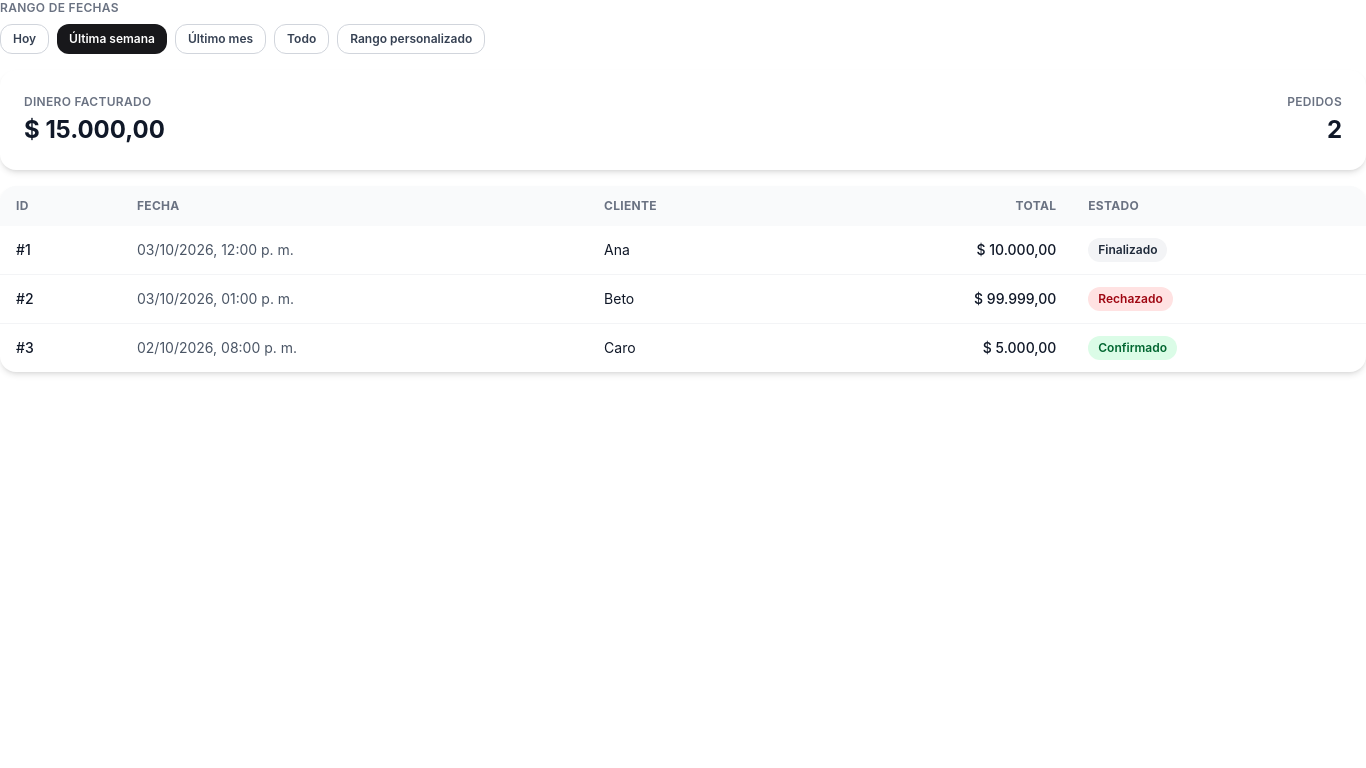
Test: HistorialView › abre el detalle de un pedido desde la tabla
Expected: the text "Ana" is shown, top-left (588, 226), bottom-right (794, 274)
Step 1. Click the button "#1" → (23, 250), box top-left (16, 240), bottom-right (31, 260)
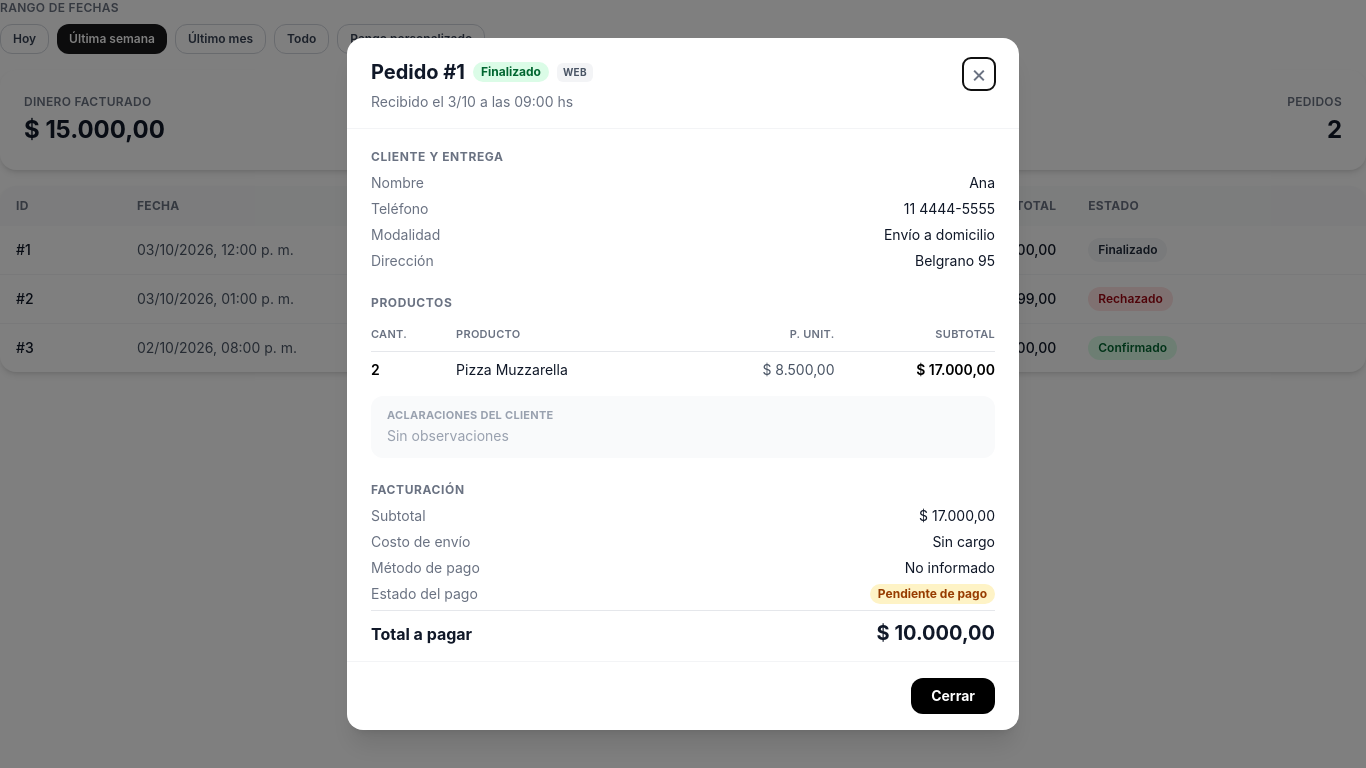
Expected: the dialog "Pedido #1" is shown, top-left (347, 38), bottom-right (1019, 730)
